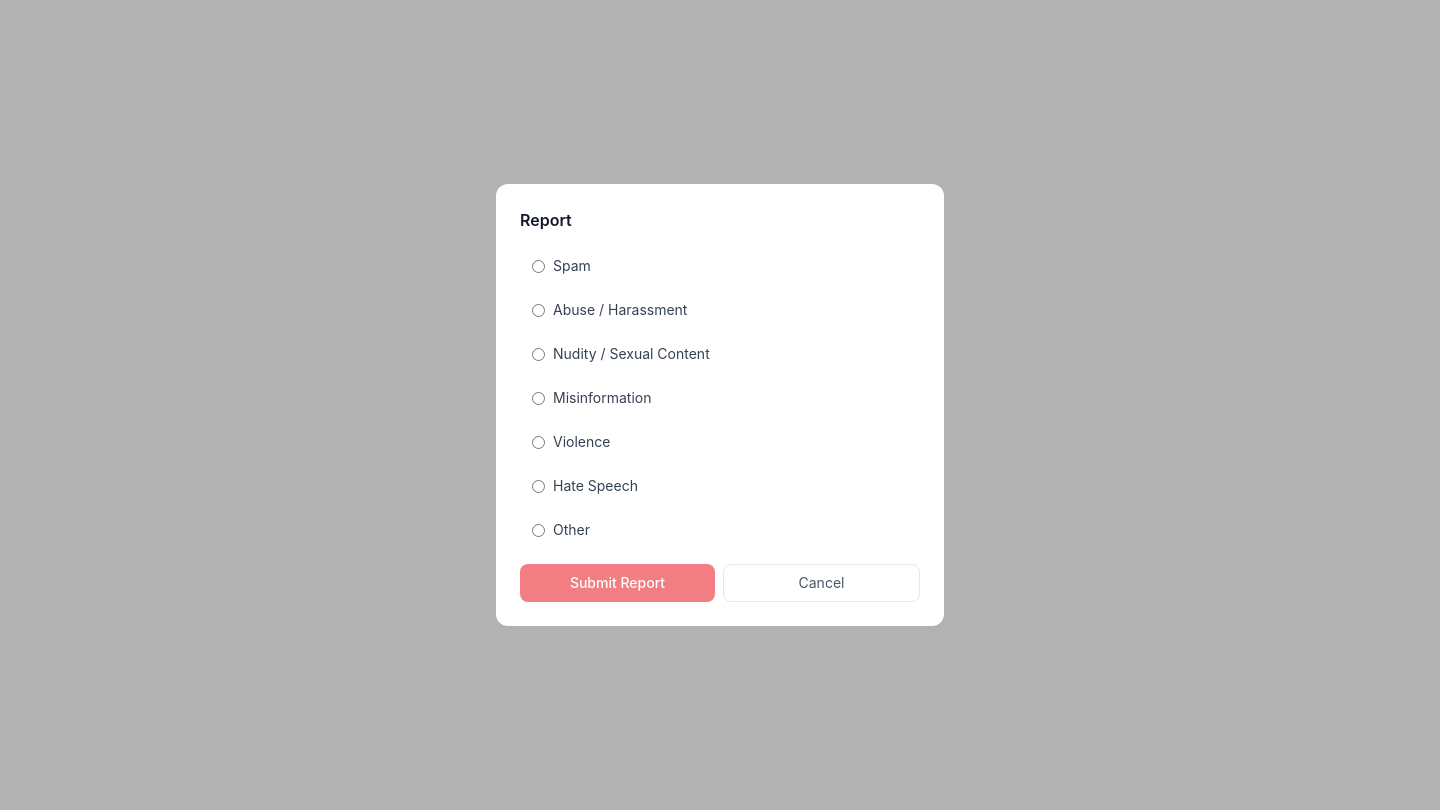
Test case: ReportModal › submits report and shows thank you
Click the text "Spam".
click(561, 266)  # box [532, 257, 591, 274]
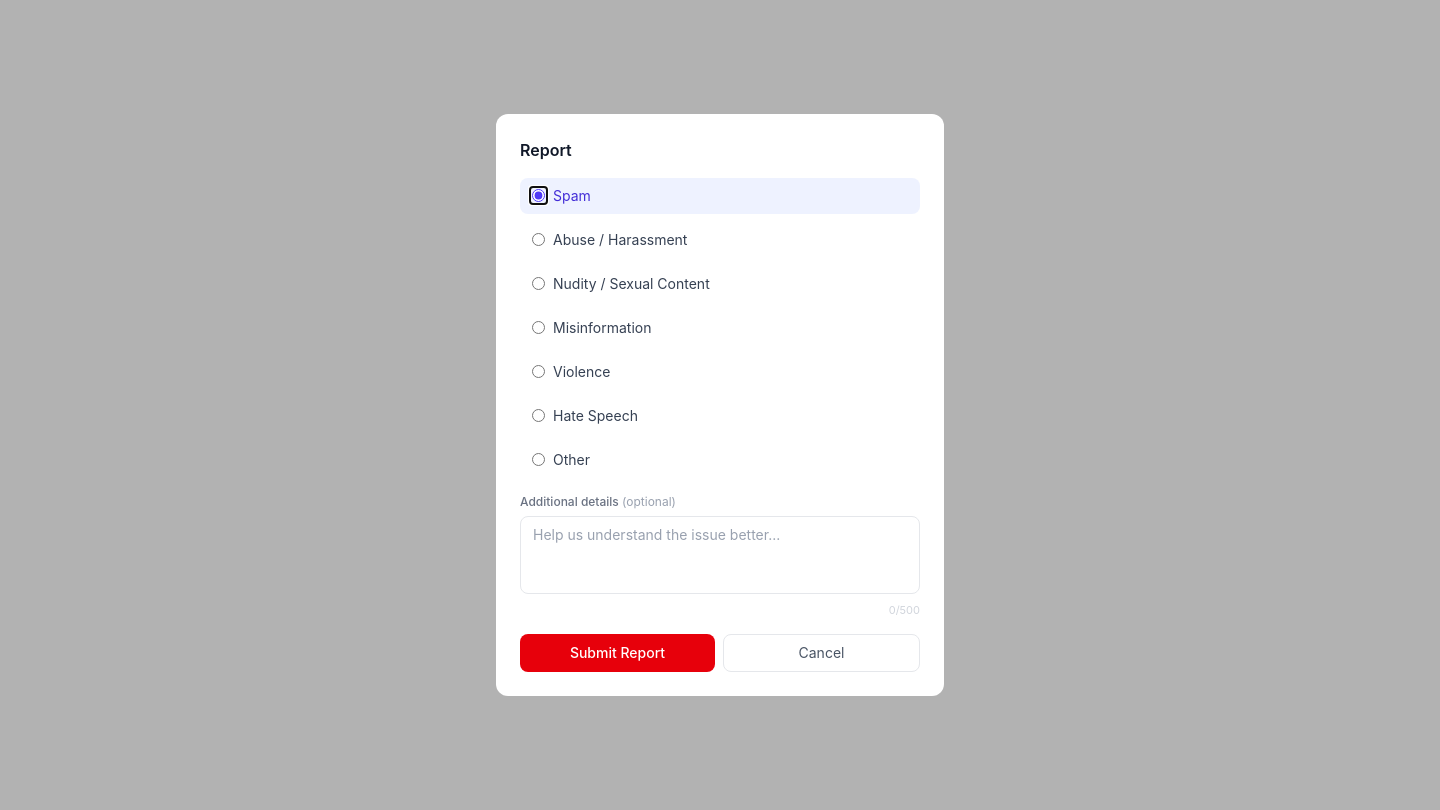
Click the button "Submit Report".
click(618, 653)  # box [520, 634, 715, 672]
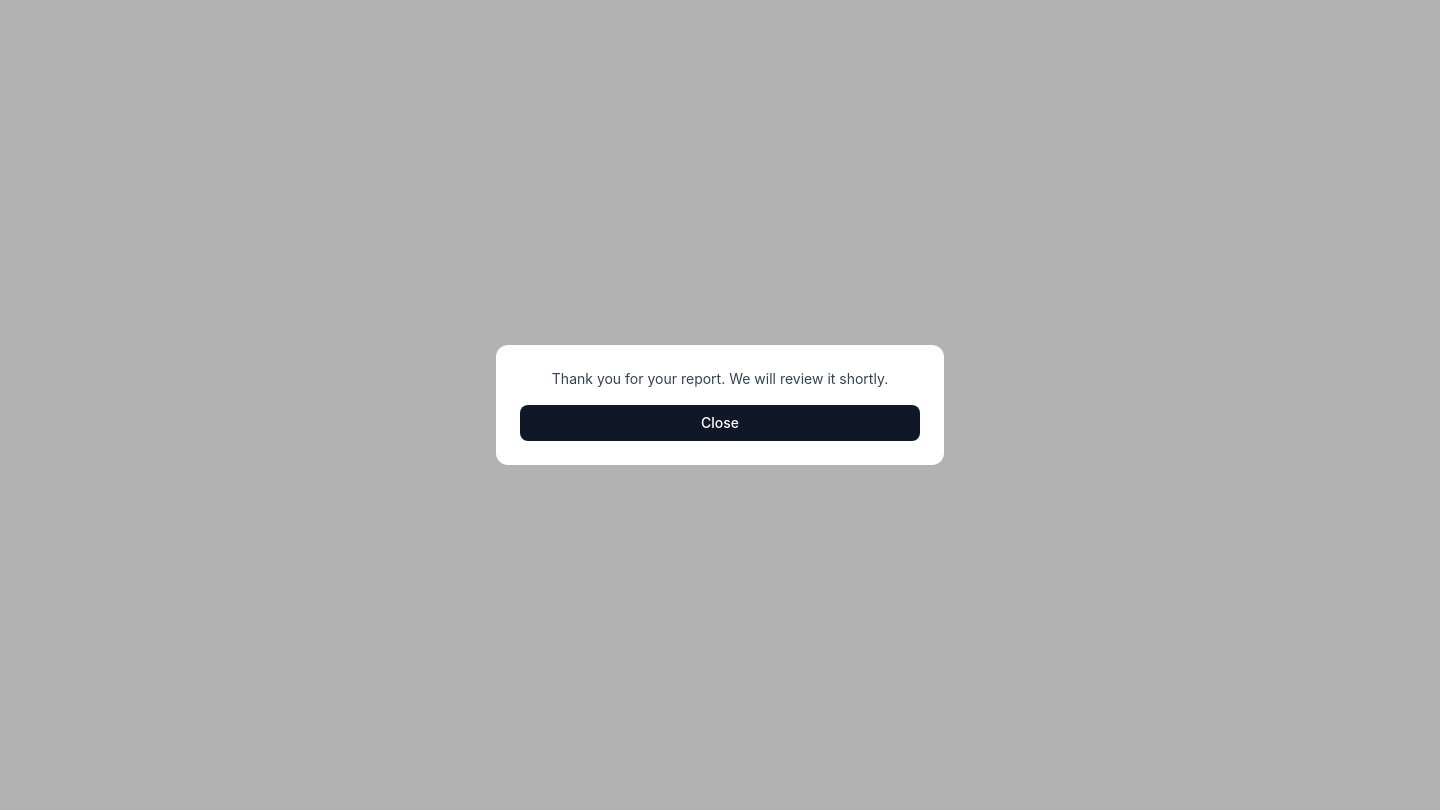
Result: the text "Thank you for your report. We will review it shortly." is shown at [552, 370, 888, 387]
